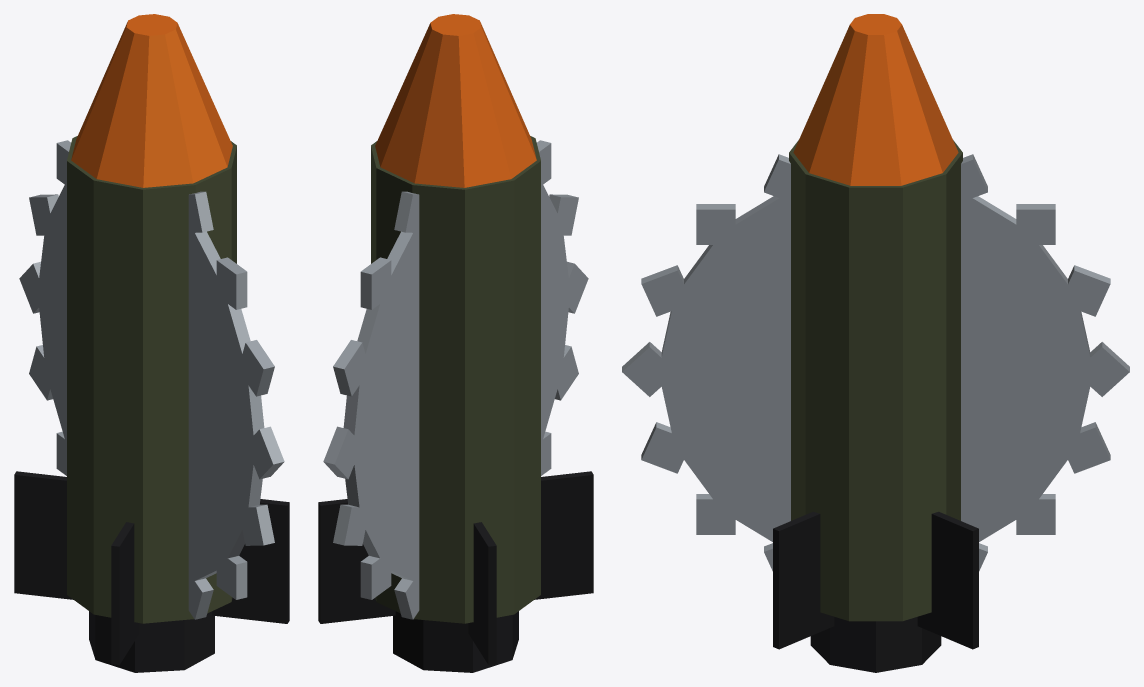
Rendered from projectiles.glb.
The picture shows the model from 3 angles, left to right: view 1: azimuth 30°, elevation 25°; view 2: azimuth 150°, elevation 25°; view 3: azimuth 270°, elevation 25°; orthographic projection.
Parts seen in each view (by area): view 1: proj_rocket, proj_blade; view 2: proj_rocket, proj_blade; view 3: proj_rocket, proj_blade.
Boxes of the visible parts, x1,y1,x2,y2 form: proj_rocket: [14, 14, 289, 672]; proj_blade: [19, 140, 284, 619]; proj_rocket: [318, 14, 593, 672]; proj_blade: [323, 140, 588, 619]; proj_rocket: [773, 14, 978, 672]; proj_blade: [622, 154, 1129, 571].
Bounding box in the file's own units: 0.0948 × 0.315 × 0.2335.
